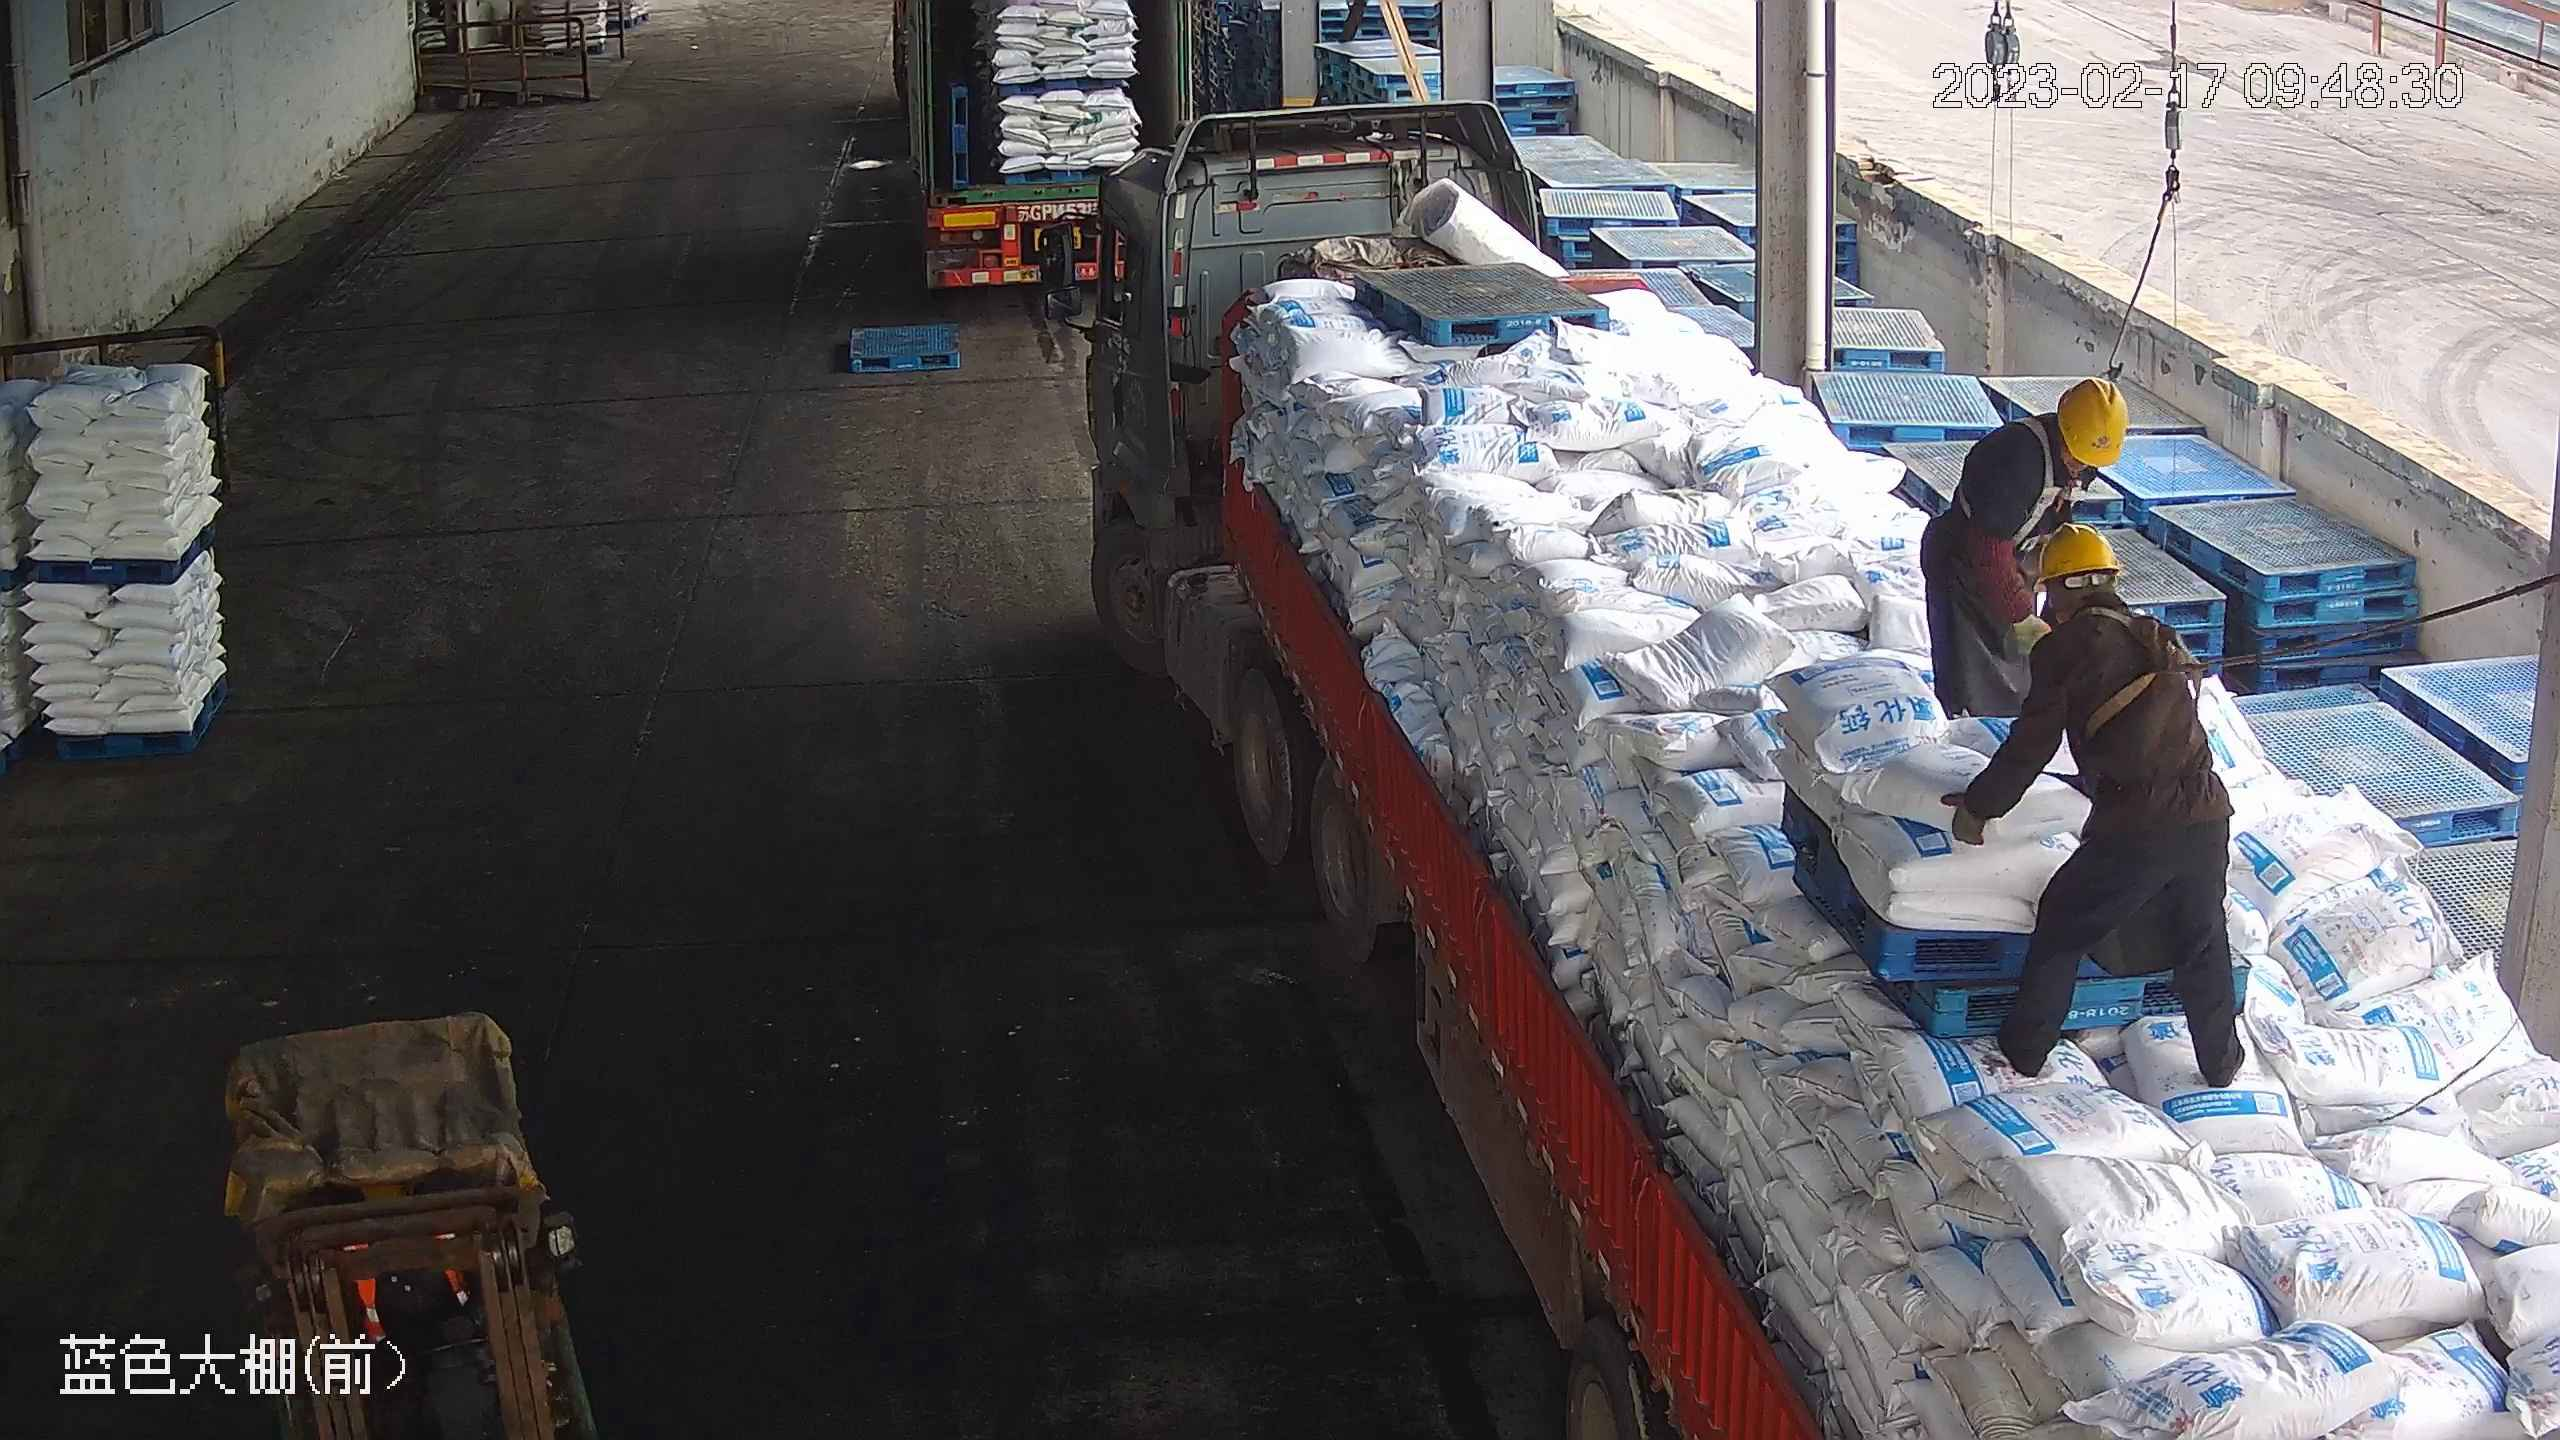belt: (2059, 603, 2216, 757), (1982, 408, 2080, 538)
head: (2019, 521, 2182, 673), (1969, 373, 2131, 501)
helmet: (2057, 374, 2132, 468), (2032, 522, 2126, 586)
people: (1942, 519, 2251, 1091), (1915, 374, 2127, 729)
truck: (1083, 112, 2560, 1437), (896, 1, 1224, 350)
